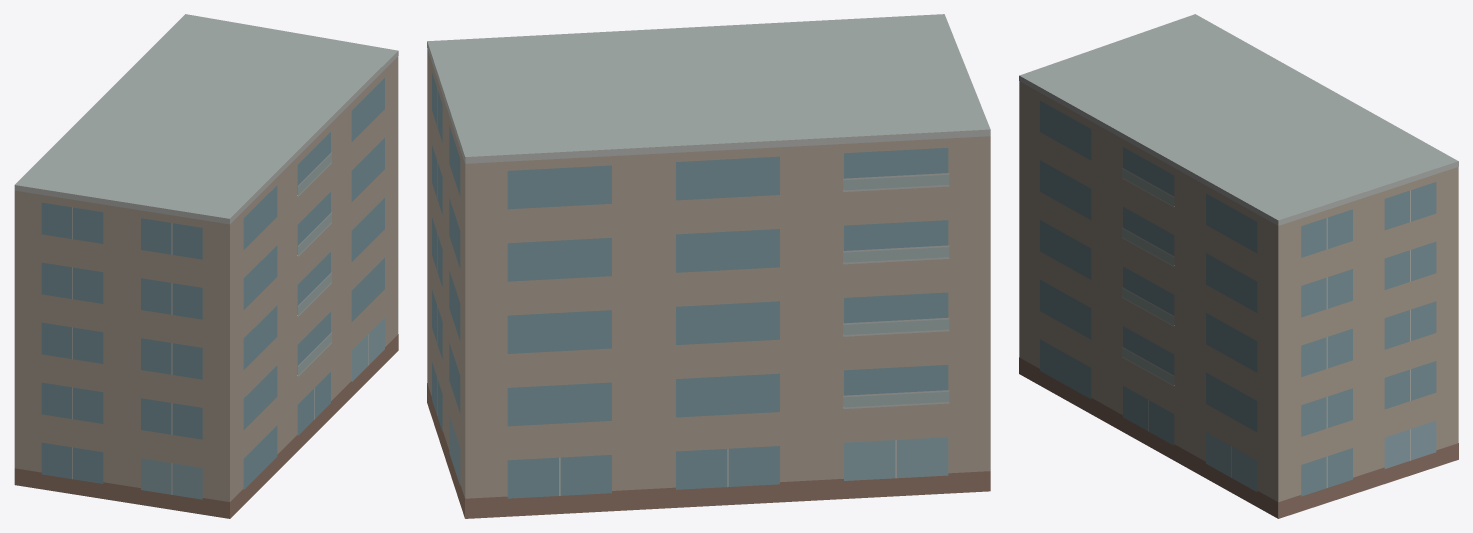
The model's file is survey-upis-32956477.glb.
3 views of the same model, side by side, from view 1: azimuth 30°, elevation 25°; view 2: azimuth 150°, elevation 25°; view 3: azimuth 270°, elevation 25° (orthographic). The views are drawn at different scales.
Visible parts, largest first — view 1: survey-upis-32956477.tmp; view 2: survey-upis-32956477.tmp; view 3: survey-upis-32956477.tmp.
Boxes of the visible parts, x1=… form: survey-upis-32956477.tmp: x1=14, y1=14, x2=398, y2=518; survey-upis-32956477.tmp: x1=427, y1=14, x2=990, y2=518; survey-upis-32956477.tmp: x1=1019, y1=14, x2=1458, y2=518.
Size of the model in its own units: 19.6 by 13.2 by 17.63.
